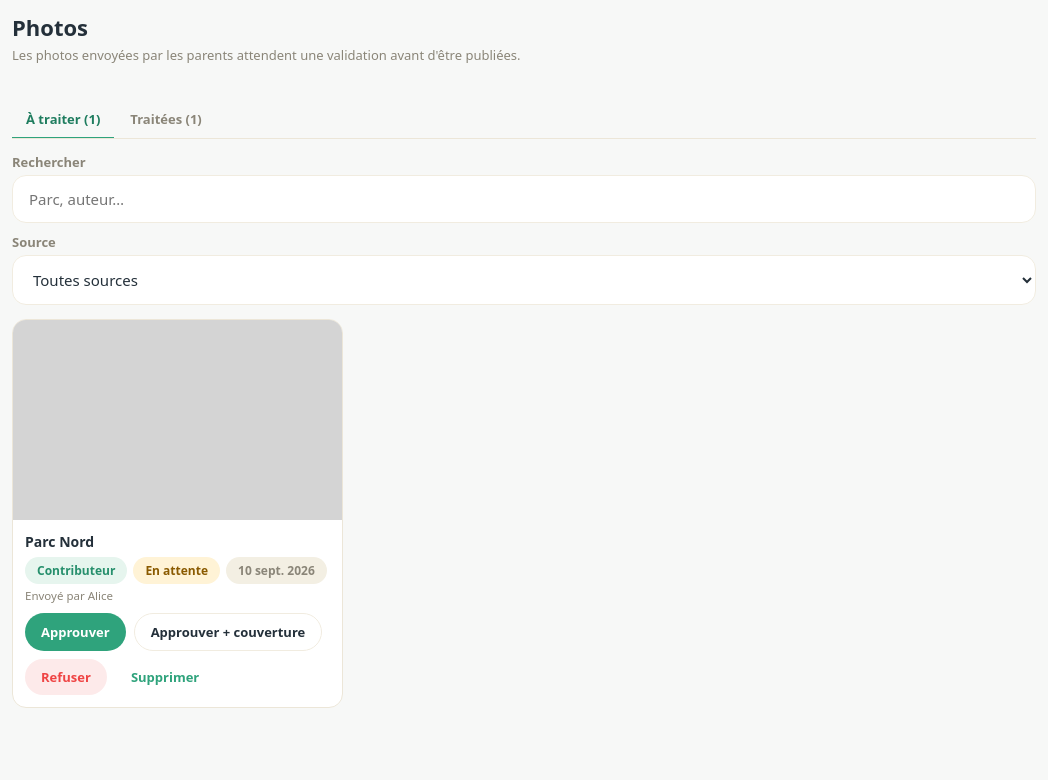
Test case: Photos — file de modération (Admin-UI-6D) › la recherche filtre par nom de parc
Expected: the link "Parc Nord" is shown, [25,532,94,551]
Step 1. Type "Sud" into the search field labelled "Rechercher" → (524, 199), box [12,175,1036,223]
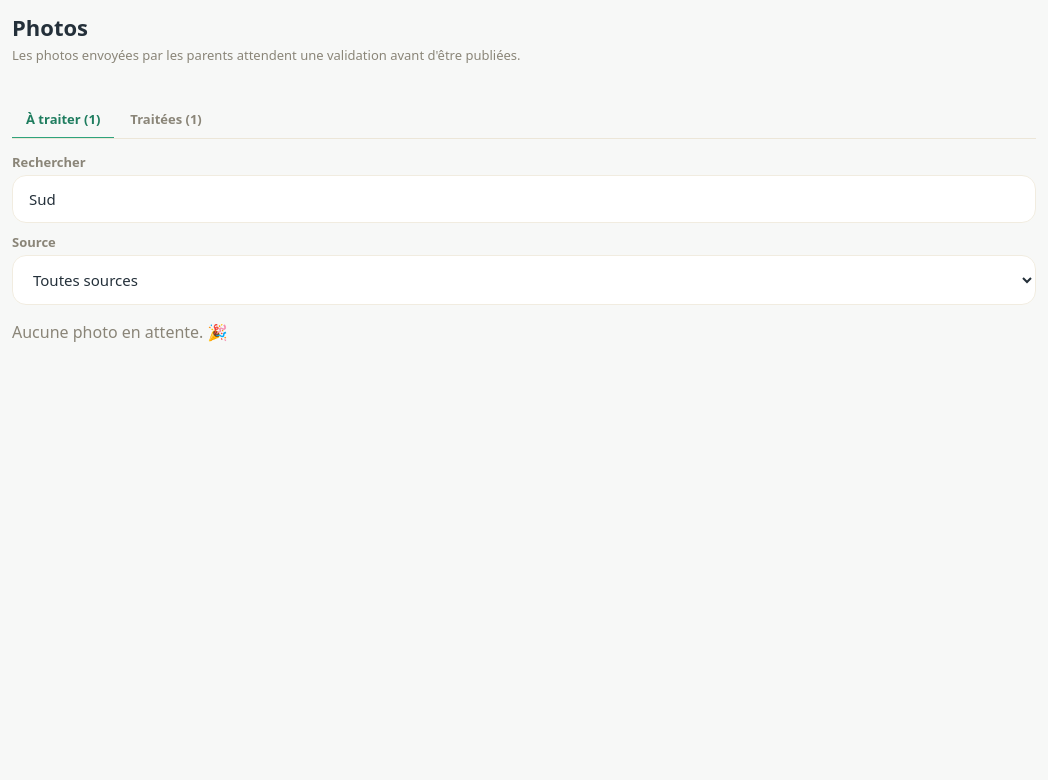
Expected: the link "Parc Nord" is gone
